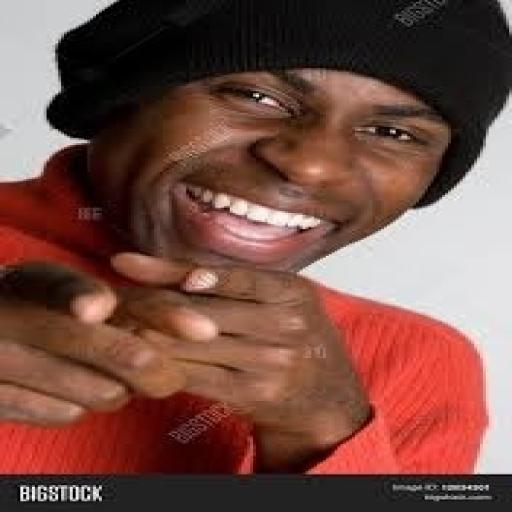laughing: (0, 0, 509, 471)
